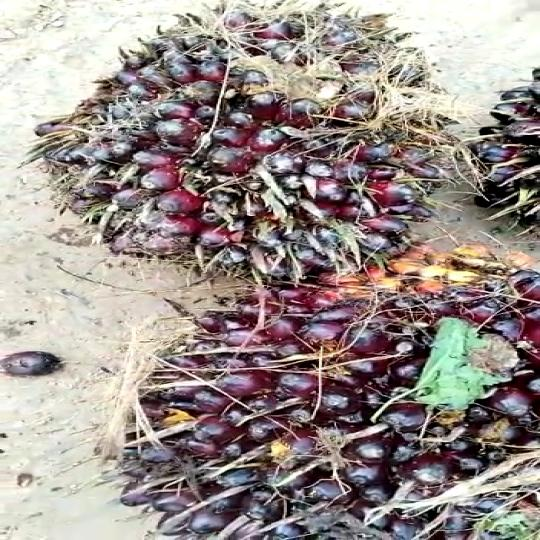kurang masak: (113, 253, 540, 534), (44, 0, 446, 294)
